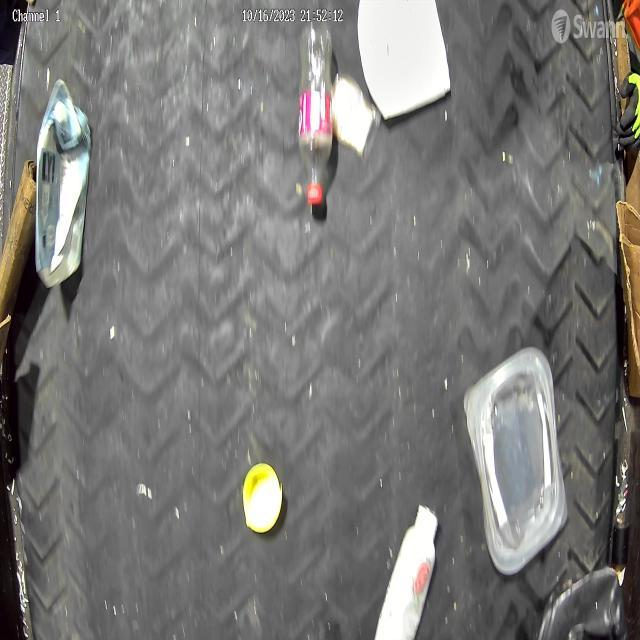non_white_jug: (534, 564, 628, 640)
plastic_bottle: (296, 20, 334, 208)
